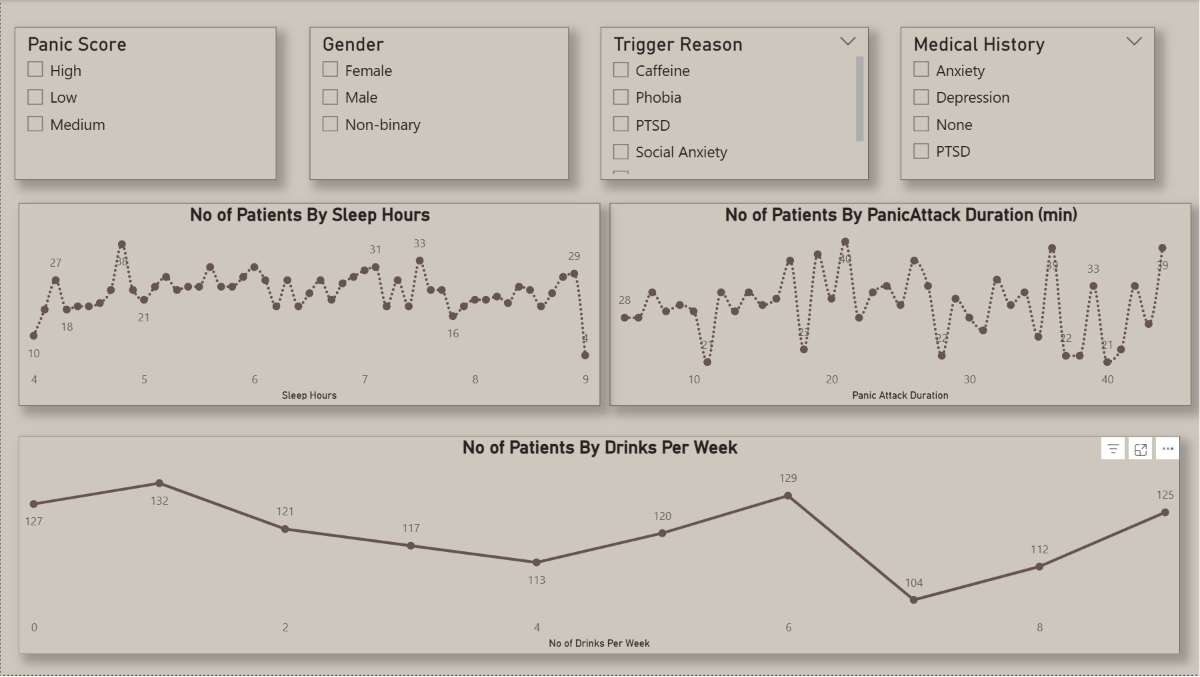

The page's visual inventory and layout, read from the dashboard file:
{"tool":"powerbi","page":{"name":"Other Requirements","canvas":[1280,720],"ordinal":2},"visuals":[{"type":"slicer","fields":{"Values":["PANIC_ATTACK_DATA.PanicScore"]},"box":[14.5,29.1,279.6,163.2],"z":0},{"type":"slicer","fields":{"Values":["PANIC_ATTACK_DATA.GENDER"]},"box":[329.7,29.1,276.4,163.2],"z":1000},{"type":"slicer","fields":{"Values":["PANIC_ATTACK_DATA.TRIGGER_REASON"]},"box":[640,29.1,286.1,163.2],"z":2000},{"type":"slicer","fields":{"Values":["PANIC_ATTACK_DATA.MEDICAL_HISTORY"]},"box":[960,29.1,271.5,163.2],"z":3000},{"type":"lineChart","title":"No of Patients By Drinks Per Week","fields":{"Category":["PANIC_ATTACK_DATA.ALCOHOL_CONSUMPTION"],"Y":["CountNonNull(PANIC_ATTACK_DATA.ID)"]},"box":[19.4,465.5,1239.6,232.7],"z":4000},{"type":"lineChart","title":"No of Patients By Sleep Hours","fields":{"Category":["PANIC_ATTACK_DATA.SLEEP_HOURS"],"Y":["CountNonNull(PANIC_ATTACK_DATA.ID)"]},"box":[19.4,216.6,620.6,216.6],"z":5000},{"type":"lineChart","title":"No of Patients By PanicAttack Duration (min)","fields":{"Category":["PANIC_ATTACK_DATA.DURATION_MINUTES"],"Y":["CountNonNull(PANIC_ATTACK_DATA.ID)"]},"box":[649.7,216.6,620.6,216.6],"z":6000}]}

Visuals, with their boxes in screenshot pixels (x1, y1, x2, y2), scaled from the page's 1280x720 canvas onto the 1200x677 screenshot:
slicer - PANIC_ATTACK_DATA.PanicScore: {"left": 14, "top": 27, "right": 276, "bottom": 181}
slicer - PANIC_ATTACK_DATA.GENDER: {"left": 309, "top": 27, "right": 568, "bottom": 181}
slicer - PANIC_ATTACK_DATA.TRIGGER_REASON: {"left": 600, "top": 27, "right": 868, "bottom": 181}
slicer - PANIC_ATTACK_DATA.MEDICAL_HISTORY: {"left": 900, "top": 27, "right": 1155, "bottom": 181}
"No of Patients By Drinks Per Week" lineChart: {"left": 18, "top": 438, "right": 1180, "bottom": 657}
"No of Patients By Sleep Hours" lineChart: {"left": 18, "top": 204, "right": 600, "bottom": 407}
"No of Patients By PanicAttack Duration (min)" lineChart: {"left": 609, "top": 204, "right": 1191, "bottom": 407}
